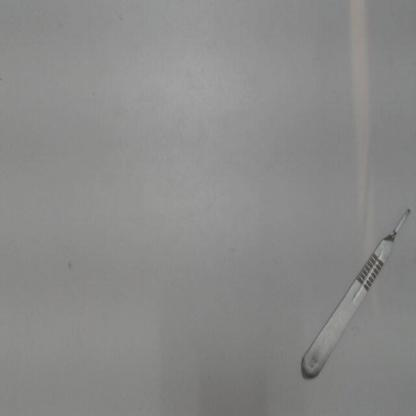No.3 BP Handle: (296, 195, 414, 387)
